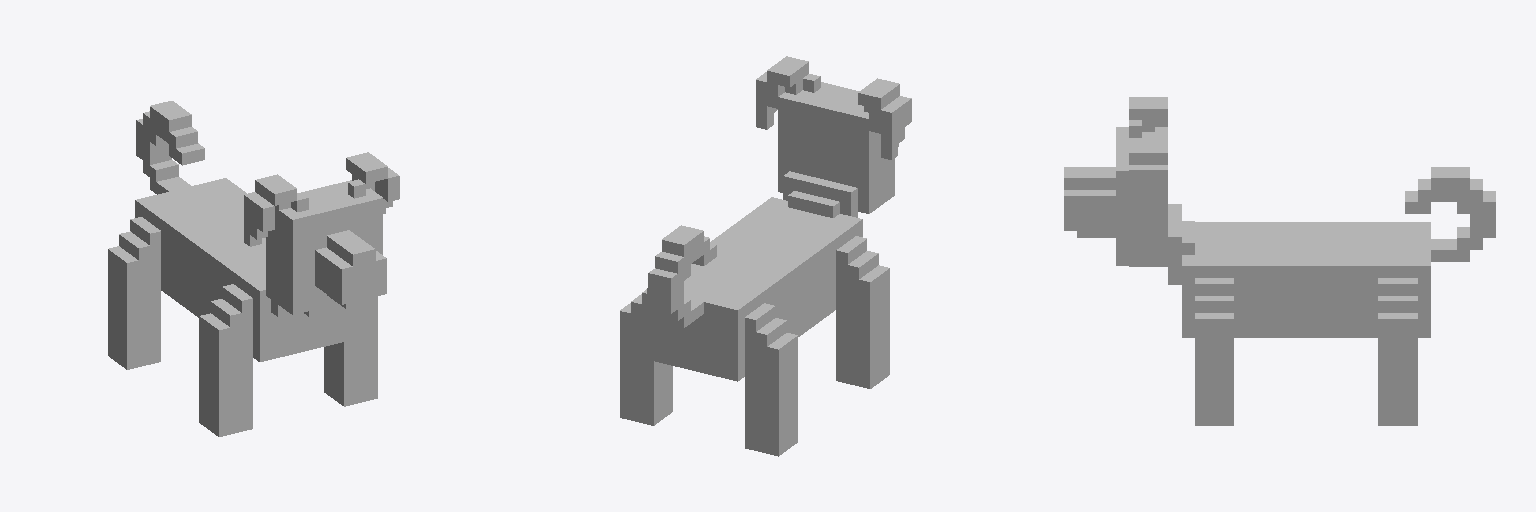
Rendered from dog1.obj.
3 renders of one model, left to right at view 1: azimuth 30°, elevation 25°; view 2: azimuth 150°, elevation 25°; view 3: azimuth 270°, elevation 25°, orthographic.
Parts seen in each view (by area): view 1: object 1; view 2: object 1; view 3: object 1.
Boxes of the visible parts, box(x1,y1,x2,y2) form: object 1: box(108, 101, 399, 436); object 1: box(620, 56, 911, 456); object 1: box(1064, 97, 1495, 425).
Bounding box in the file's own units: 1.4 × 2.2 × 3.3.